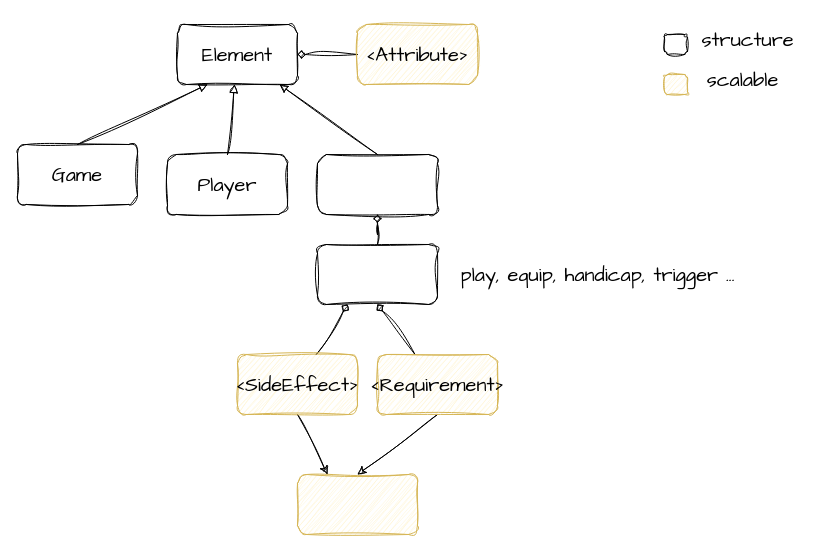
Image size: 825x552. Some labels were removed from this diagram. The shapes that lost their labels are listed below. From the top down, each one's centre as x and y in pixels, then its label:
(x=377, y=184): Card
(x=377, y=274): Action
(x=357, y=504): <Arg>
